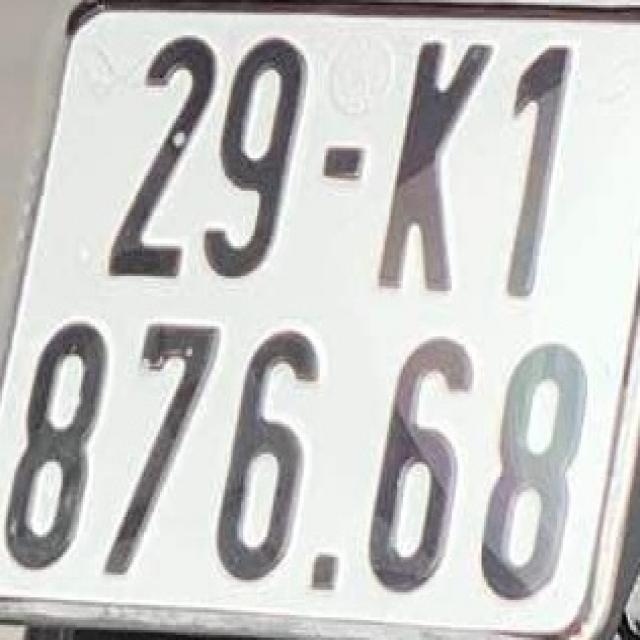1: (496, 35, 579, 304)
2: (99, 28, 211, 284)
6: (362, 332, 474, 598), (211, 319, 322, 587)
7: (103, 311, 221, 582)
8: (476, 329, 589, 605), (0, 308, 111, 577)
9: (202, 30, 310, 284)
K: (371, 28, 488, 298)
